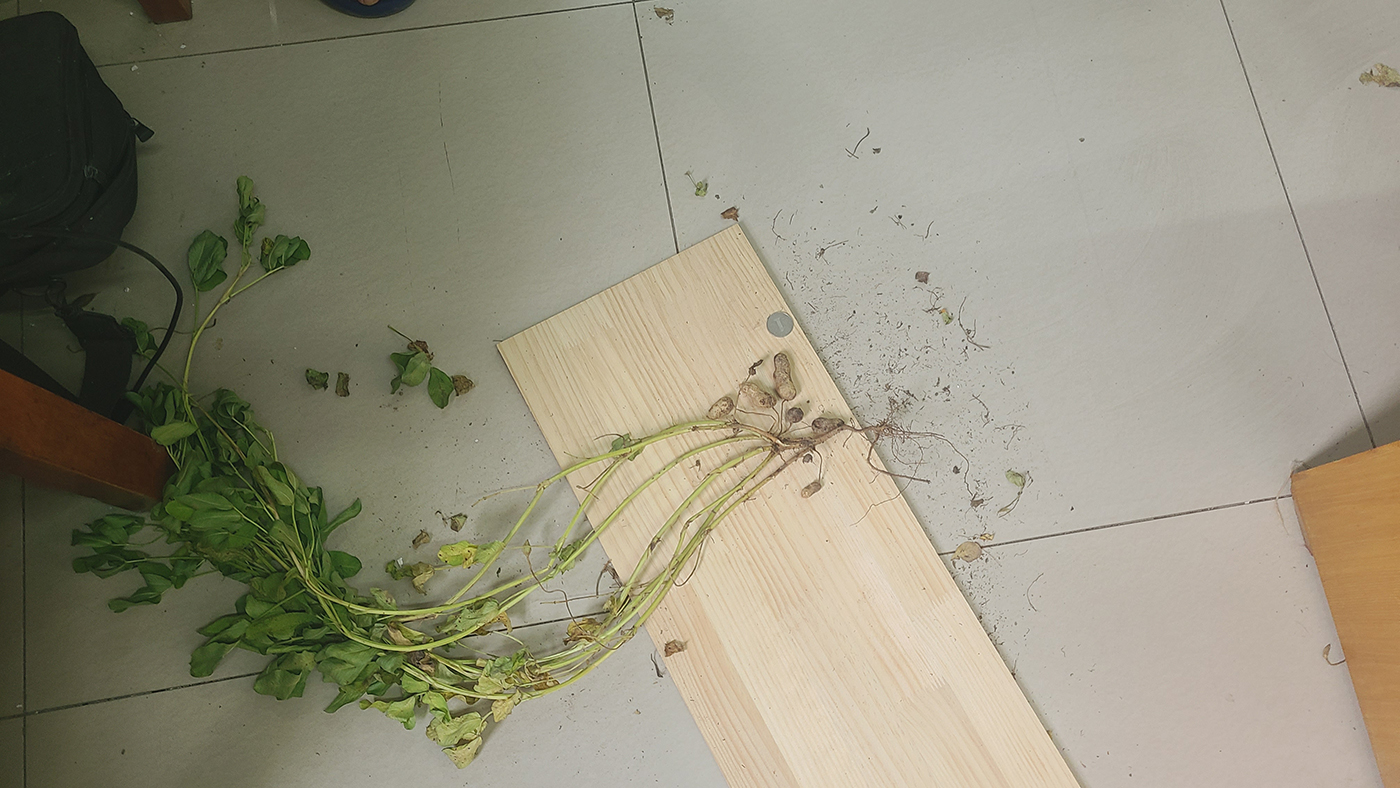h: (772, 354, 796, 400), (740, 383, 777, 408), (706, 395, 734, 420)
l: (810, 418, 845, 433), (802, 481, 821, 498), (786, 407, 804, 423), (748, 359, 763, 375), (803, 453, 814, 464)
